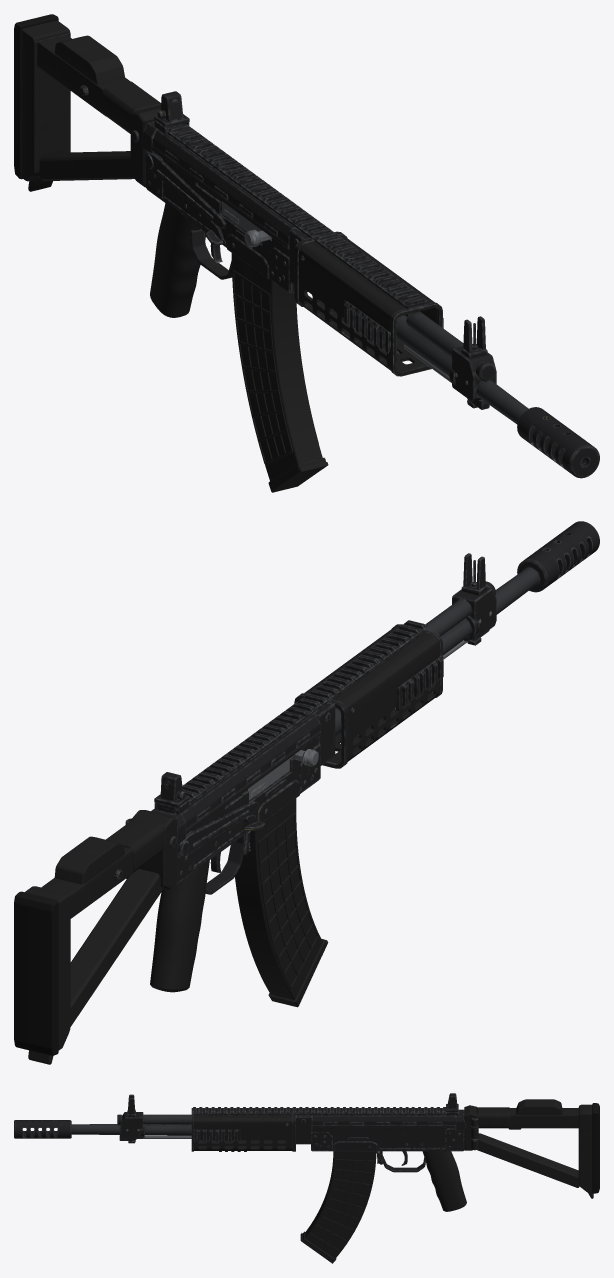
3 views of the same model, one above another, from view 1: azimuth 30°, elevation 25°; view 2: azimuth 150°, elevation 25°; view 3: azimuth 270°, elevation 25° (orthographic). The views are drawn at different scales.
Visible parts, largest first — view 1: Body, Mag, IronSights, Bolt; view 2: Body, Mag, IronSights, Bolt; view 3: Body, Mag, IronSights.
Boxes of the visible parts, box(x1,y1,x2,y2) form: Body: box(14, 14, 599, 478); Mag: box(231, 253, 328, 492); IronSights: box(154, 91, 487, 358); Bolt: box(222, 201, 271, 247); Body: box(14, 521, 599, 1064); Mag: box(235, 798, 328, 1007); IronSights: box(154, 553, 487, 814); Bolt: box(248, 749, 318, 800); Body: box(14, 1099, 599, 1211); Mag: box(300, 1151, 376, 1263); IronSights: box(127, 1093, 458, 1116).
Bounding box in the file's own units: 0.0635 × 0.2922 × 0.937.
